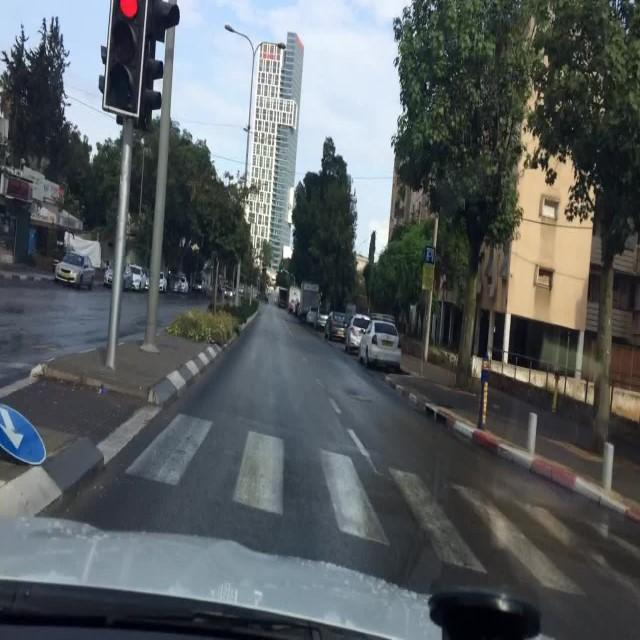normal: (297, 264, 414, 367), (54, 229, 157, 300)
